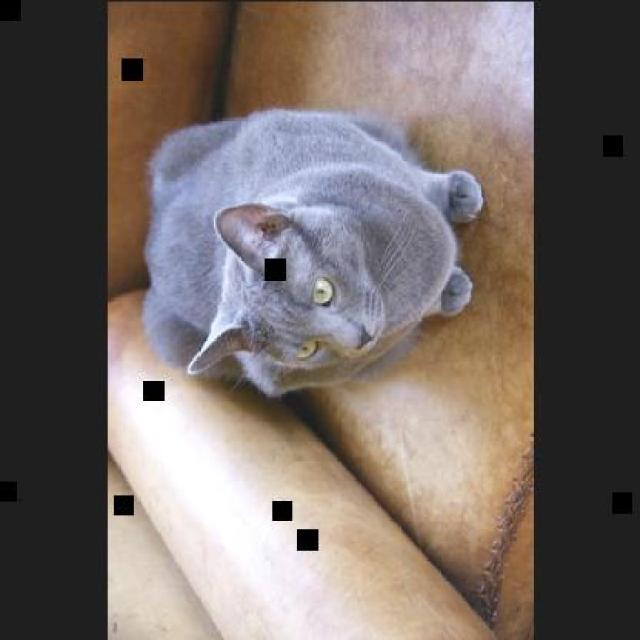unauthorized: (140, 106, 485, 399)
